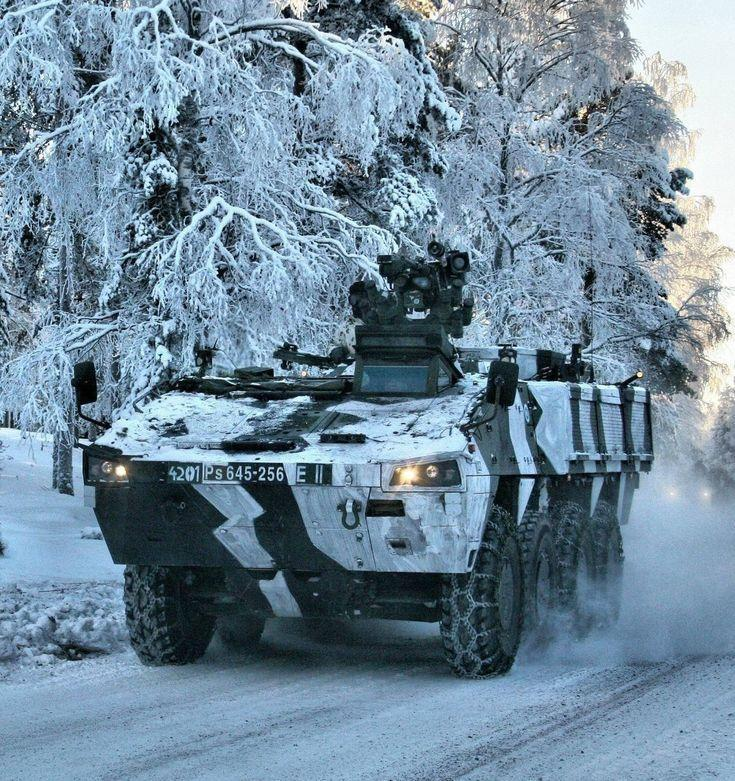tank: (69, 238, 656, 682)
